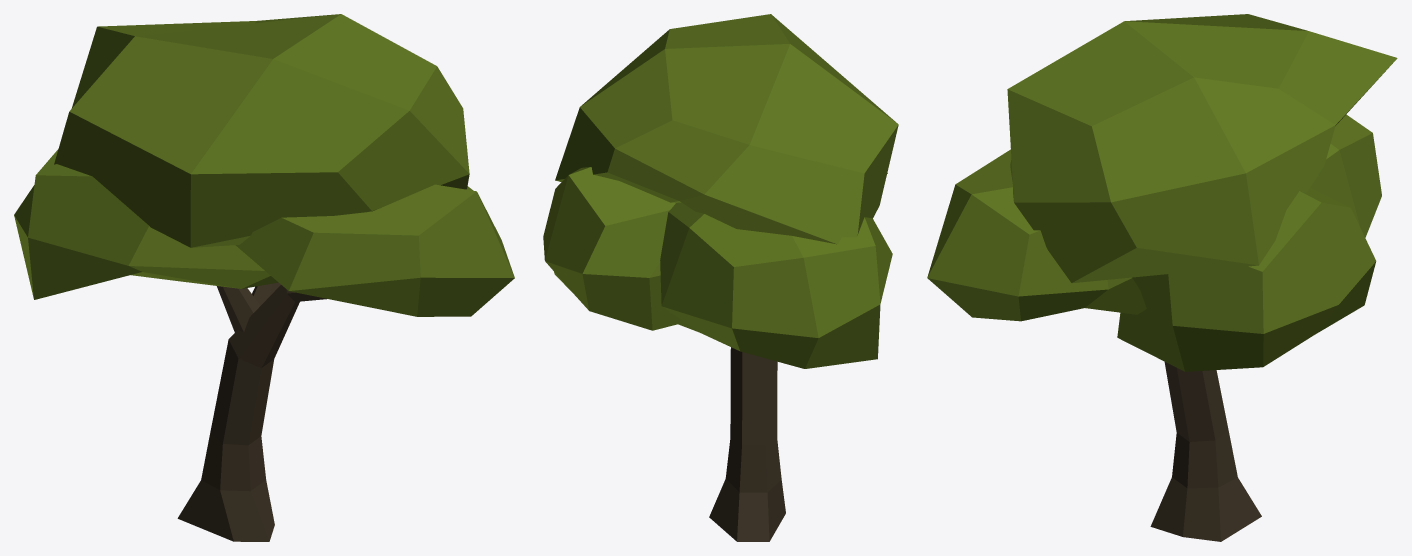
File: Tree_model_2.fbx
The picture shows the model from 3 angles, left to right: view 1: azimuth 30°, elevation 25°; view 2: azimuth 150°, elevation 25°; view 3: azimuth 270°, elevation 25°; orthographic projection. The views are drawn at different scales.
Visible parts, largest first — view 1: Oak; view 2: Oak; view 3: Oak.
Part boxes in pixels (x1,y1,x2,y2): Oak: (14,14,514,541); Oak: (543,14,898,541); Oak: (927,14,1397,541).
Bounding box in the file's own units: 76.58 × 96.76 × 82.39.
